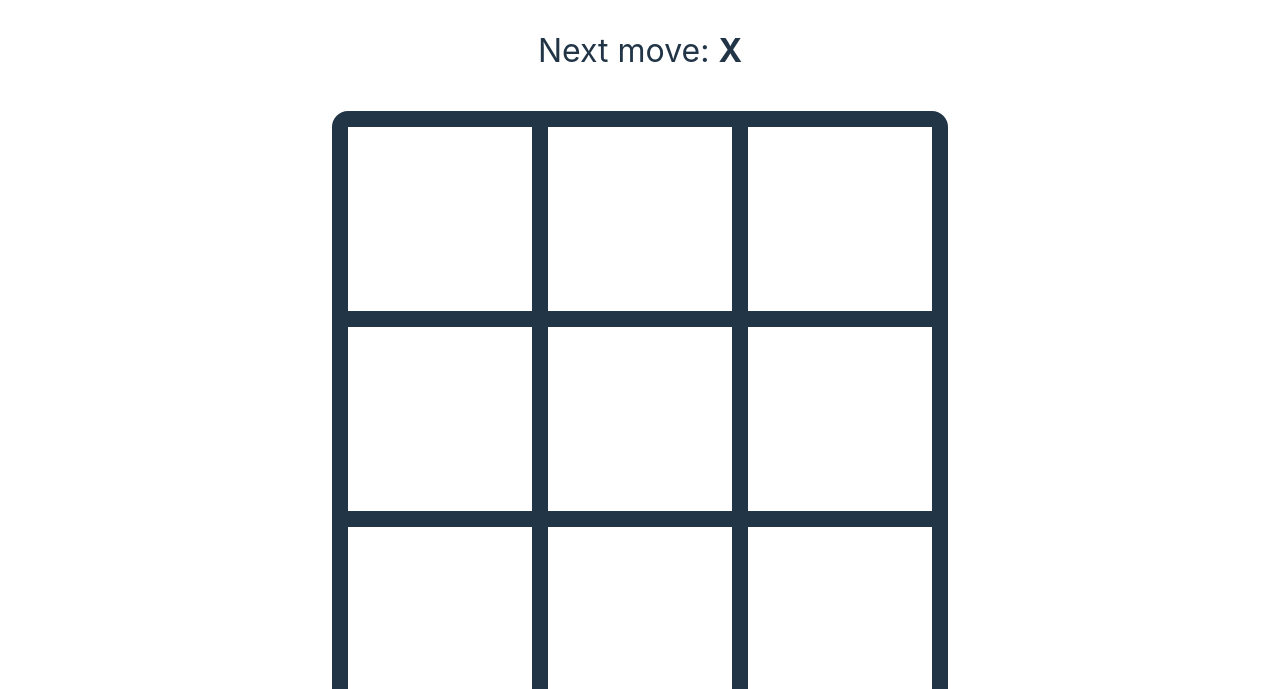
App › End of game › should display O winner message when O gets 3 in a row
The image size is (1280, 689).
Step 1. Click the element with test id "cell-0" → (440, 219), box x1=340 y1=119 x2=540 y2=319
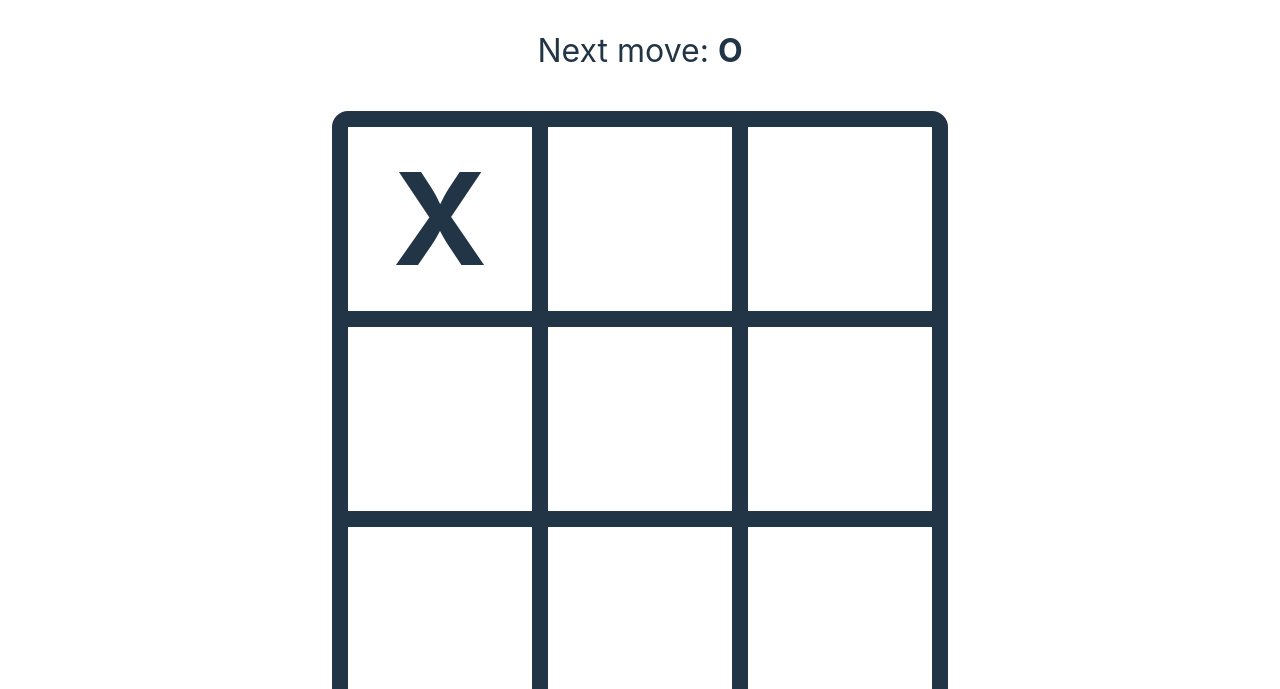
Step 2. Click the element with test id "cell-3" → (440, 419), box x1=340 y1=319 x2=540 y2=519
(page scrolled)
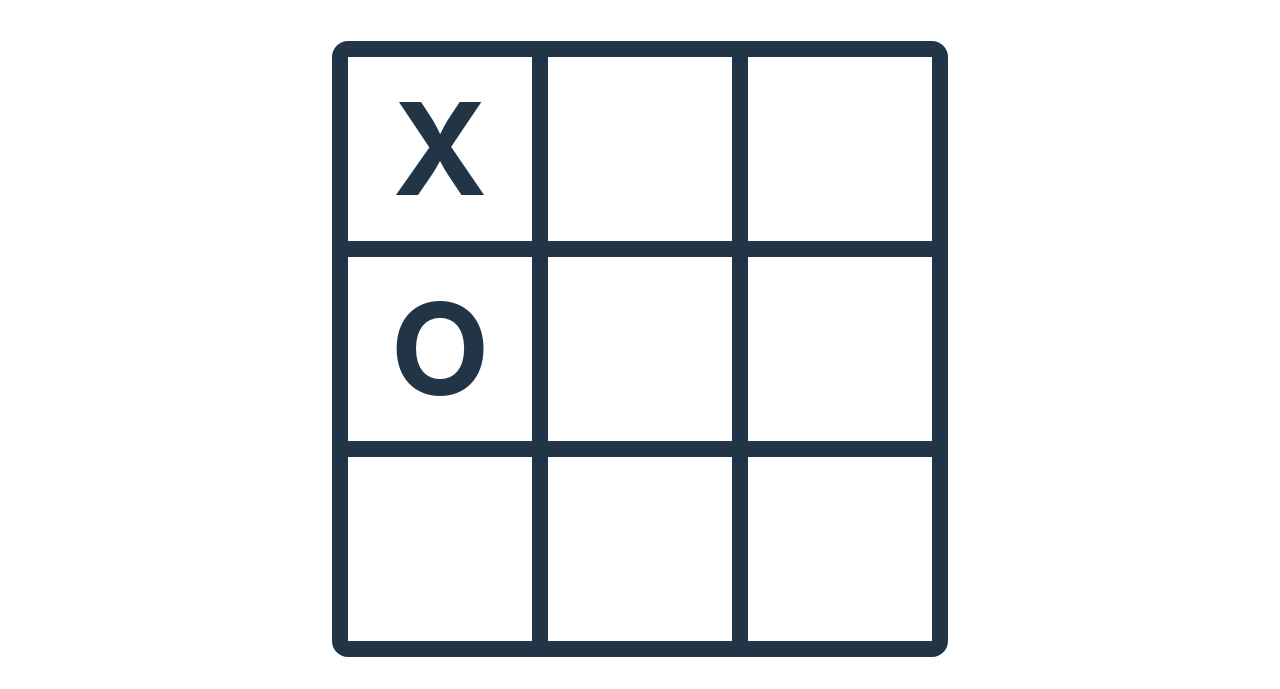
Step 3. Click the element with test id "cell-6" → (440, 549), box x1=340 y1=449 x2=540 y2=649
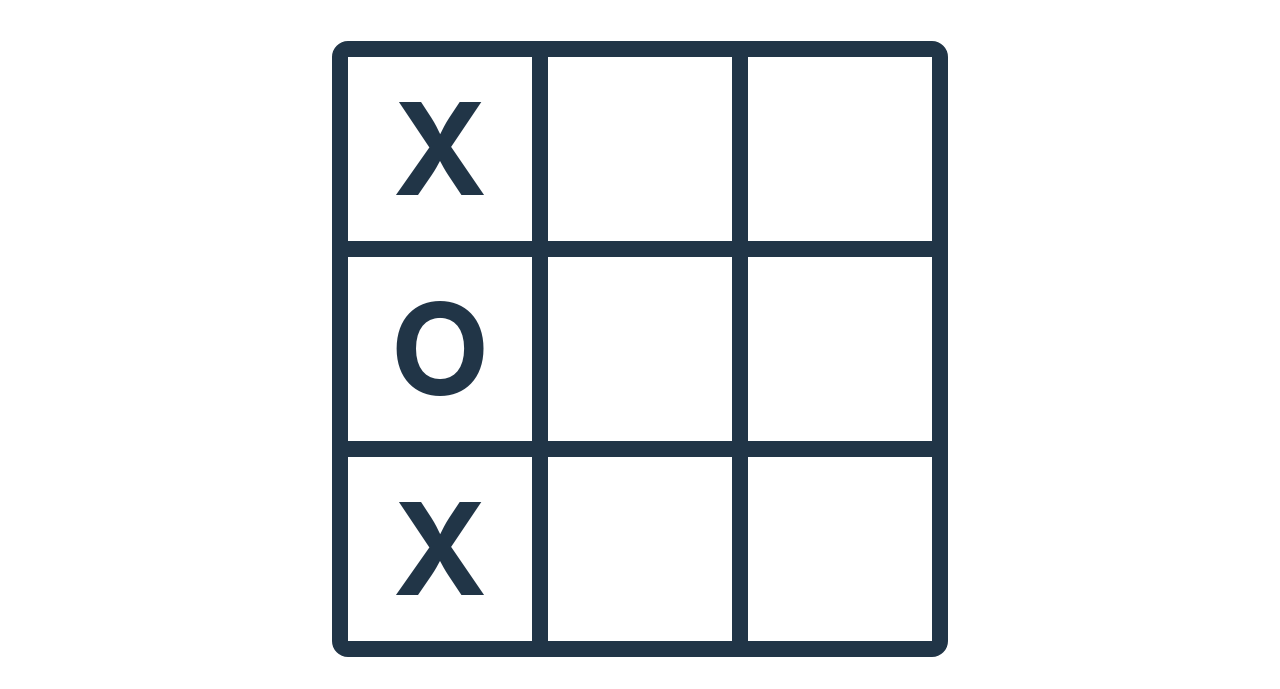
Step 4. Click the element with test id "cell-4" → (640, 349), box x1=540 y1=249 x2=740 y2=449
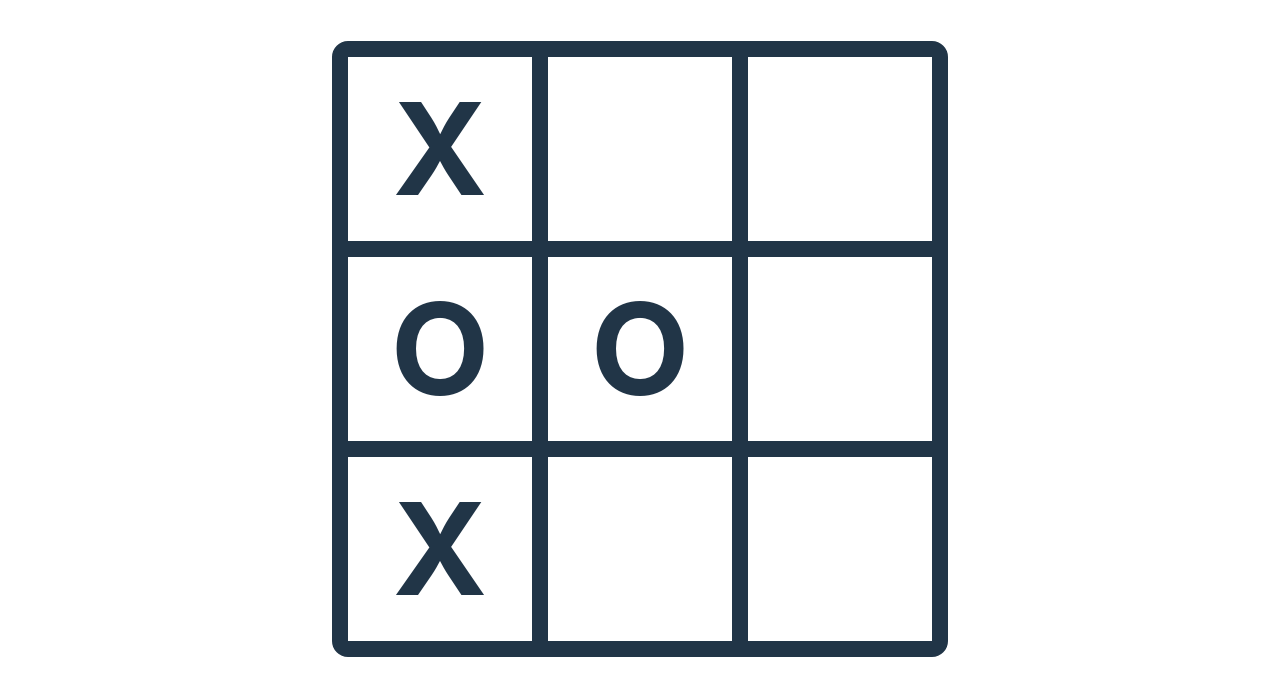
Step 5. Click the element with test id "cell-8" → (840, 549), box x1=740 y1=449 x2=940 y2=649
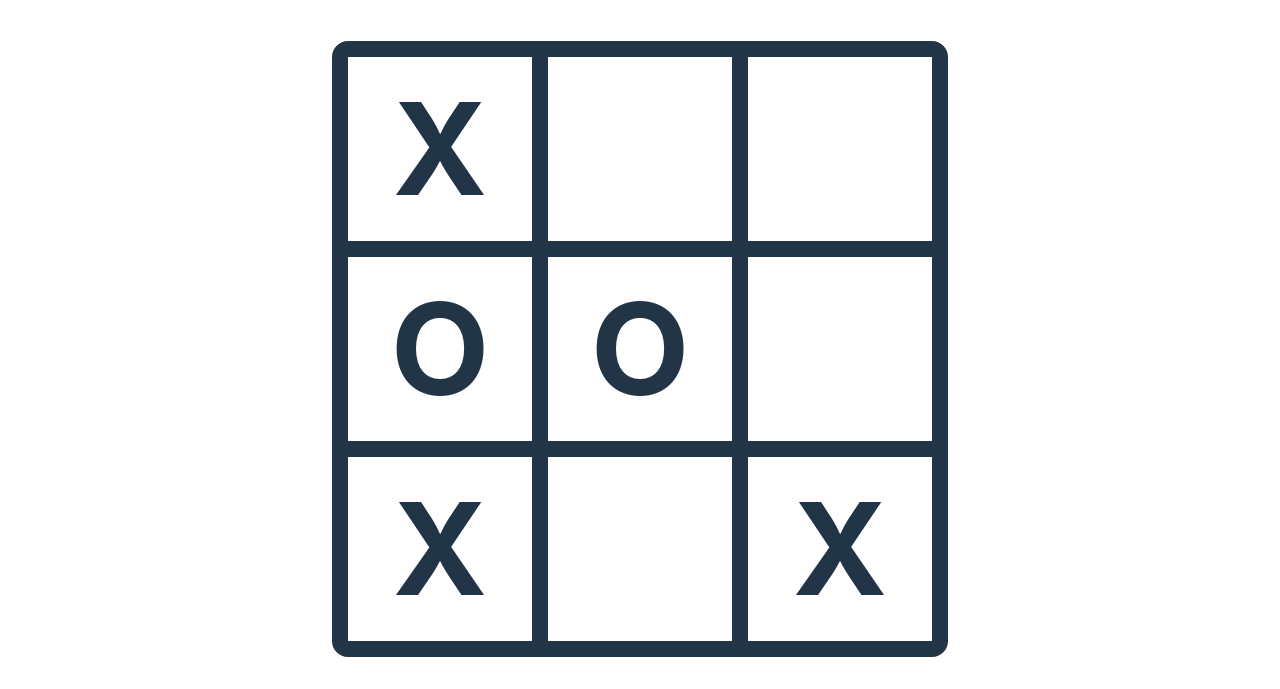
Step 6. Click the element with test id "cell-5" → (840, 349), box x1=740 y1=249 x2=940 y2=449
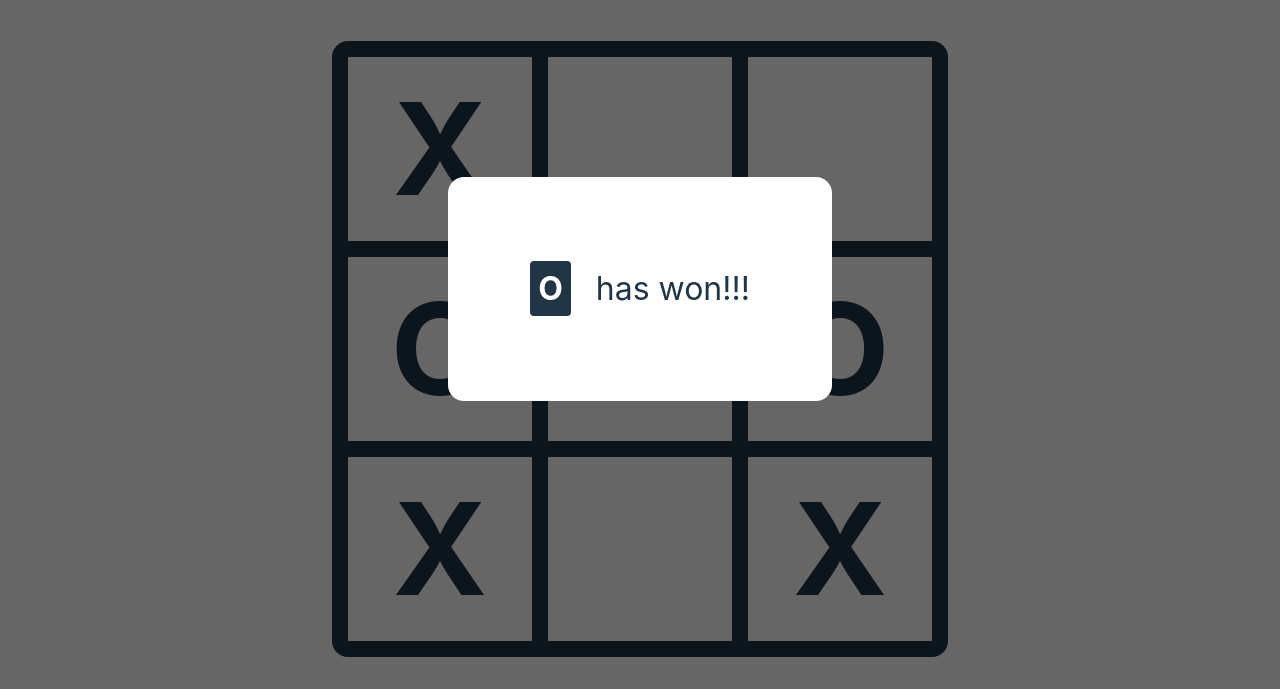
Now the text "O" is shown, box x1=530 y1=261 x2=571 y2=316
